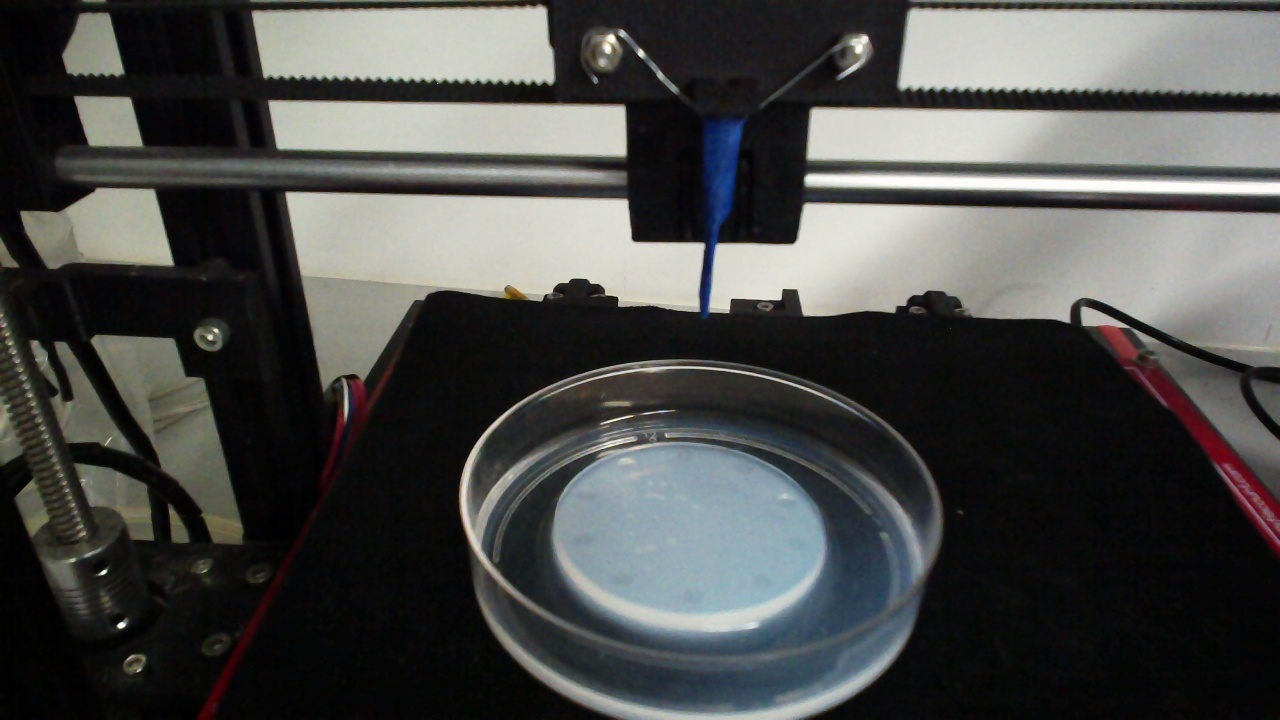groove: (751, 571, 774, 591), (570, 529, 595, 547), (681, 587, 705, 605), (784, 533, 808, 551), (610, 571, 634, 588), (774, 493, 796, 509), (573, 488, 596, 503), (615, 455, 635, 472), (733, 461, 755, 476), (673, 451, 696, 462)
needle: (699, 120, 743, 320)
